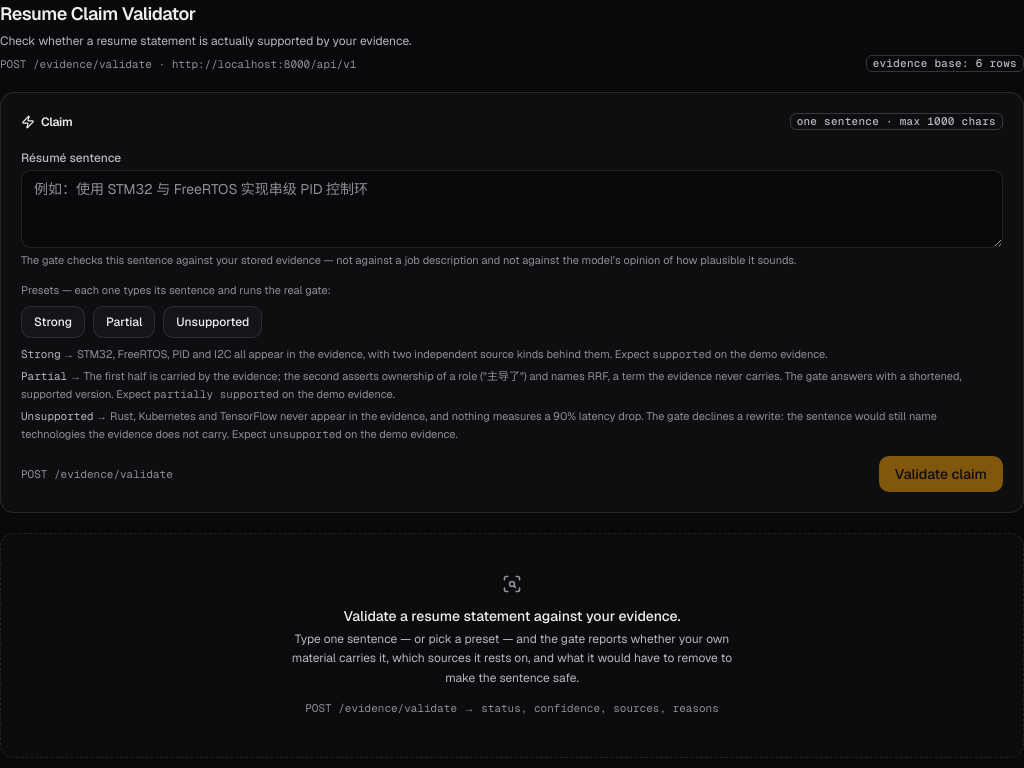
Scenario: the claim validator page › offers an evidence-safe rewrite with the original above it
In the text box labelled "Résumé sentence": (512, 209) x1=21 y1=170 x2=1003 y2=248, type "使用 STM32 与 FreeRTOS 实现串级 PID 控制环"
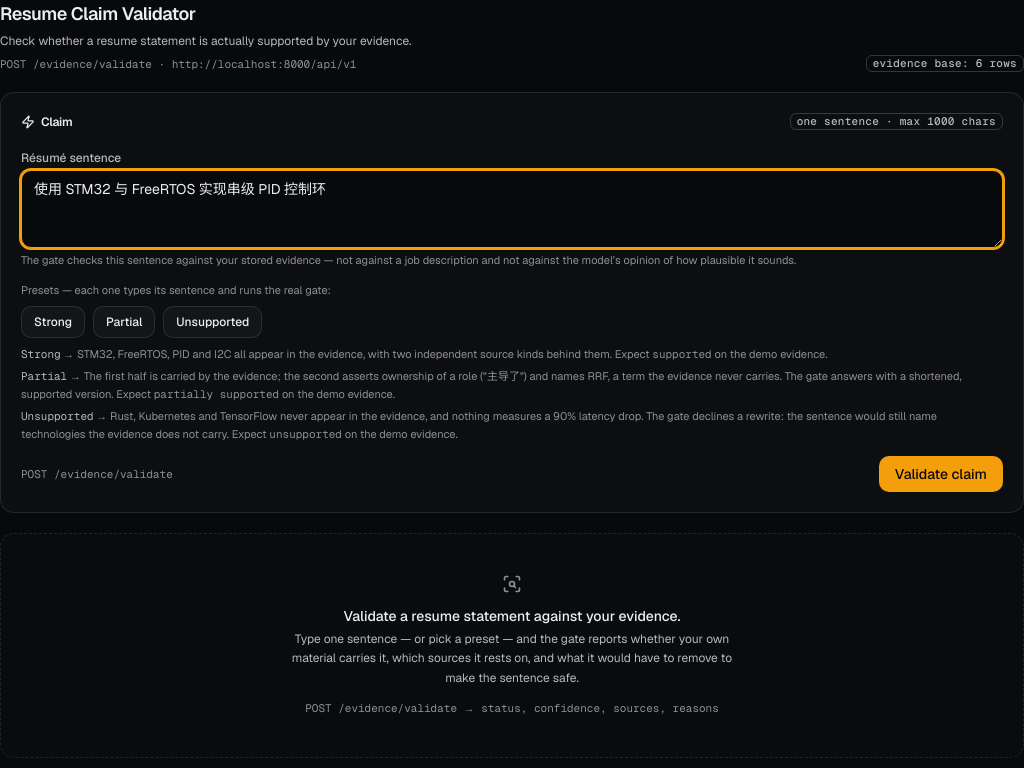
Click the button with test id "validate-claim": (941, 474) x1=879 y1=456 x2=1003 y2=492
(page scrolled)
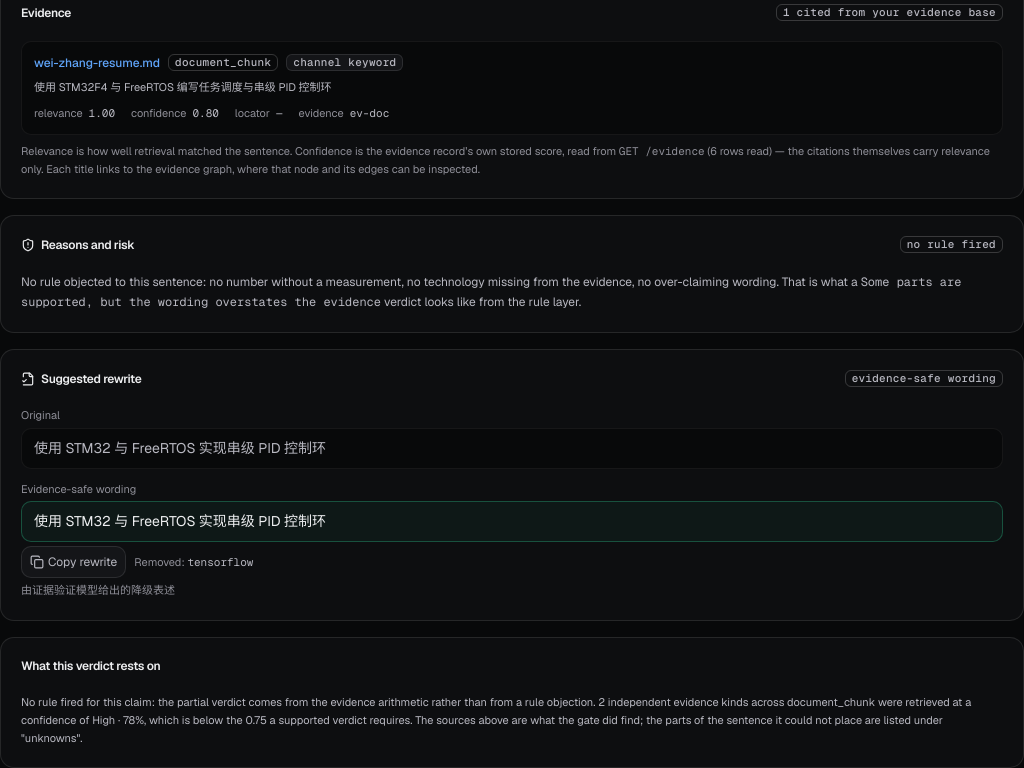
Expected: the text with test id "rewrite-text" reads "使用 STM32 与 FreeRTOS 实现串级 PID 控制环", x1=34 y1=512 x2=326 y2=530
Expected: the text with test id "rewrite-original" is shown, x1=21 y1=428 x2=1003 y2=469
Expected: the button "Copy rewrite" is shown, x1=21 y1=546 x2=126 y2=578
